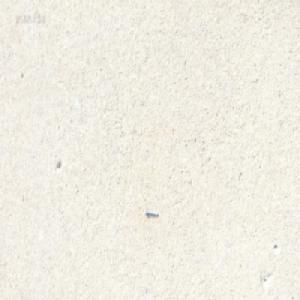Nail: (144, 207, 158, 216)
